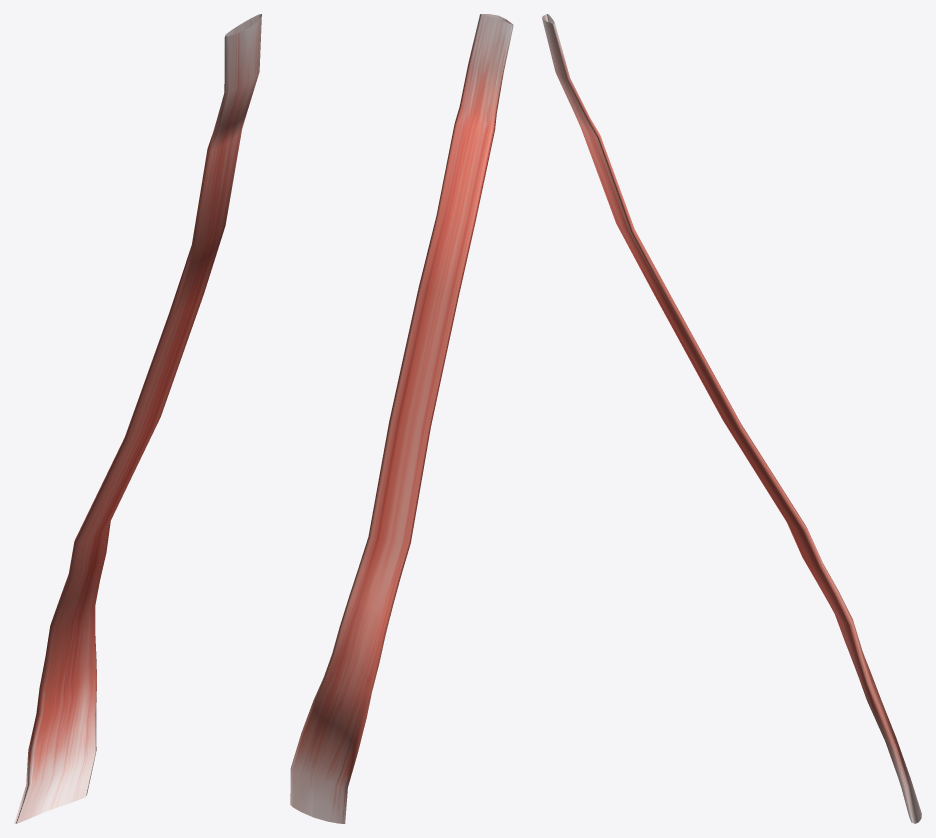
File: Longus_Colli_Muscle_Left.obj
The picture shows the model from 3 angles, left to right: view 1: azimuth 30°, elevation 25°; view 2: azimuth 150°, elevation 25°; view 3: azimuth 270°, elevation 25°; orthographic projection. The views are drawn at different scales.
Parts seen in each view (by area): view 1: Sternohyoid_Muscle_Left:Sternohyoid_Muscle_Left1_Mesh Sternohyoi; view 2: Sternohyoid_Muscle_Left:Sternohyoid_Muscle_Left1_Mesh Sternohyoi; view 3: Sternohyoid_Muscle_Left:Sternohyoid_Muscle_Left1_Mesh Sternohyoi.
Boxes of the visible parts, x1=… form: Sternohyoid_Muscle_Left:Sternohyoid_Muscle_Left1_Mesh Sternohyoi: x1=14, y1=14, x2=261, y2=823; Sternohyoid_Muscle_Left:Sternohyoid_Muscle_Left1_Mesh Sternohyoi: x1=290, y1=14, x2=513, y2=823; Sternohyoid_Muscle_Left:Sternohyoid_Muscle_Left1_Mesh Sternohyoi: x1=542, y1=14, x2=921, y2=823.
Size of the model in its own units: 0.1817 by 1.77 by 0.7699.
